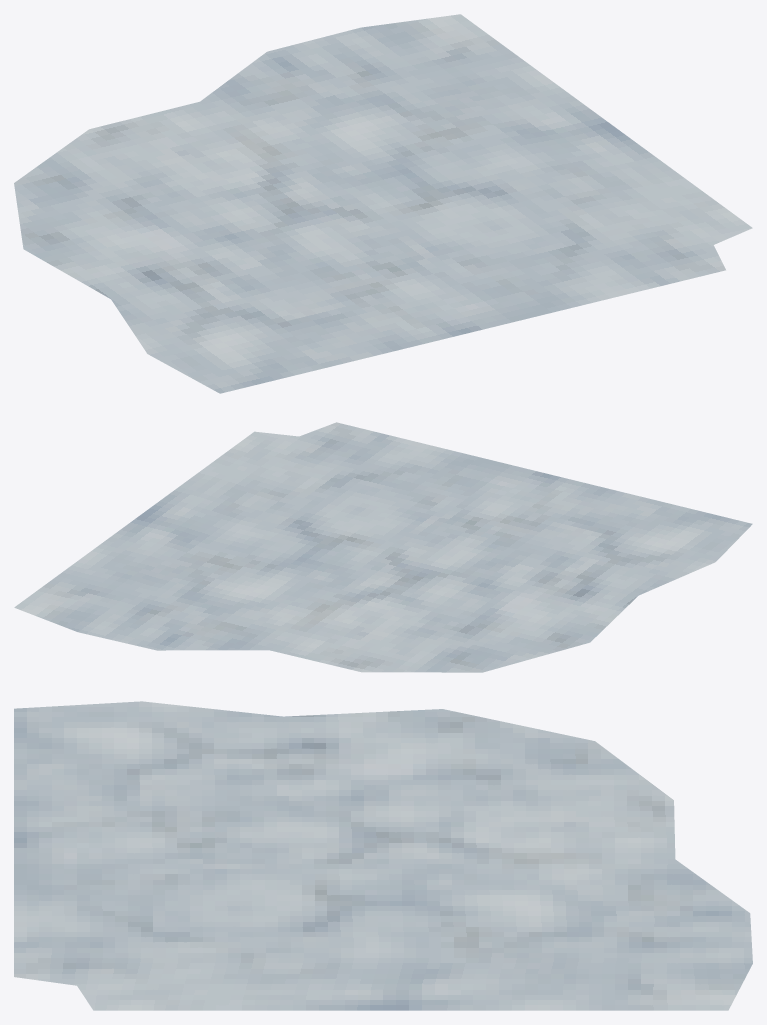
File: SnowyRoad Corner.fbx
The picture shows the model from 3 angles, top to bottom: view 1: azimuth 30°, elevation 25°; view 2: azimuth 150°, elevation 25°; view 3: azimuth 270°, elevation 25°; orthographic projection. The views are drawn at different scales.
Parts seen in each view (by area): view 1: SnowyRoad_corner; view 2: SnowyRoad_corner; view 3: SnowyRoad_corner.
Part boxes in pixels (x1=…): SnowyRoad_corner: x1=14, y1=14, x2=752, y2=393; SnowyRoad_corner: x1=14, y1=422, x2=752, y2=672; SnowyRoad_corner: x1=14, y1=701, x2=752, y2=1010.
Bounding box in the file's own units: 0.9217 × 0 × 0.9309.
